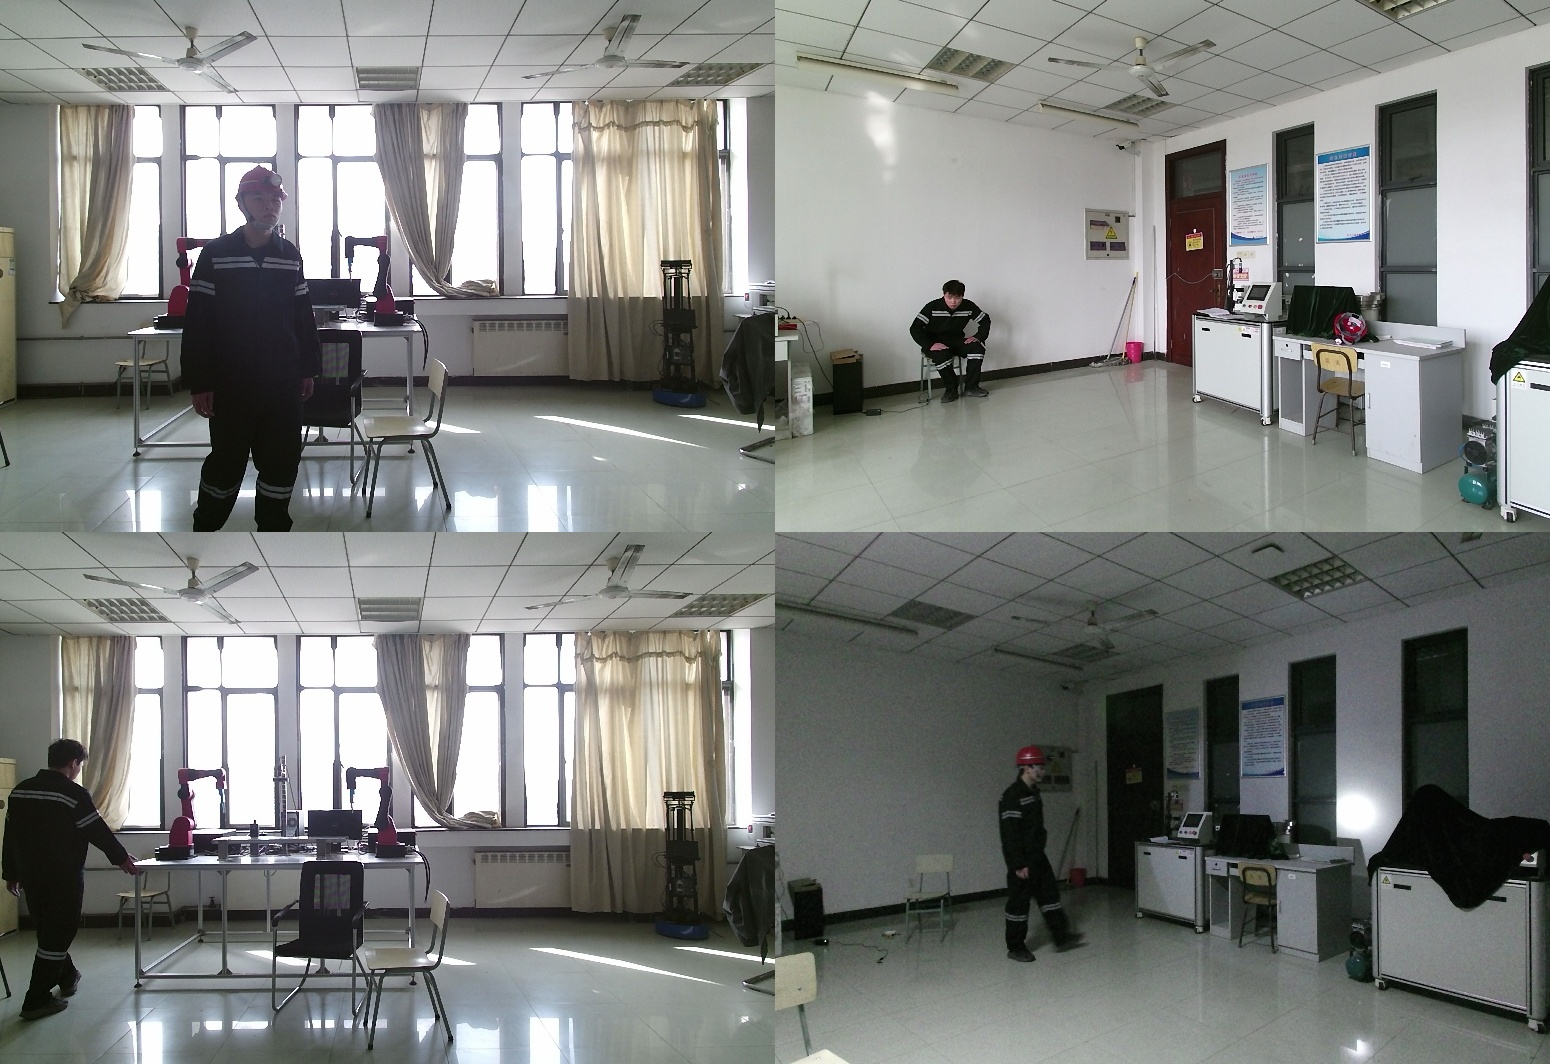person: (183, 167, 328, 532), (1, 738, 140, 1015), (995, 747, 1087, 974), (908, 279, 990, 407)
